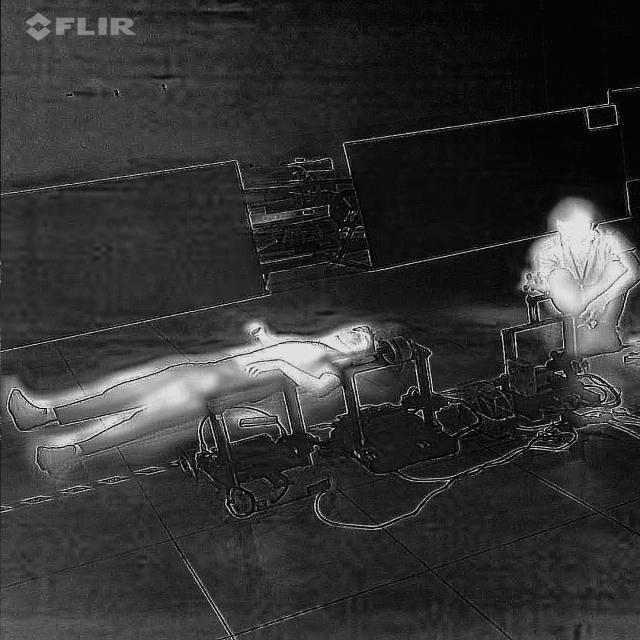Victim: (2, 314, 389, 483), (513, 185, 640, 360)
